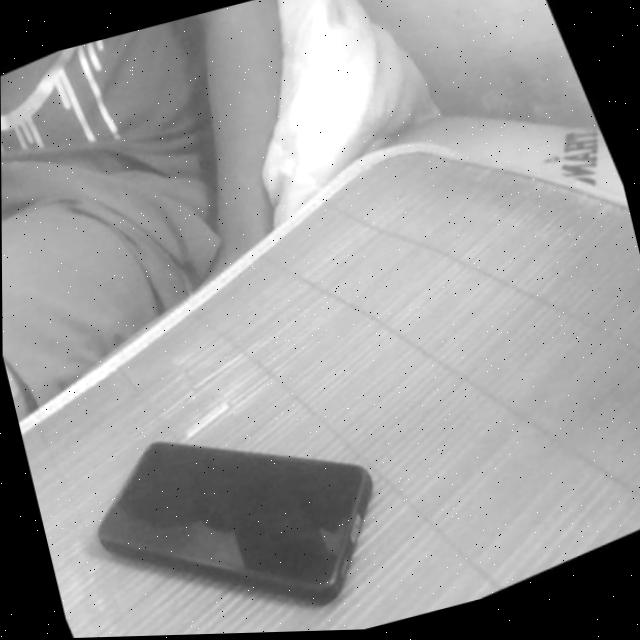phone: (47, 345, 421, 639)
